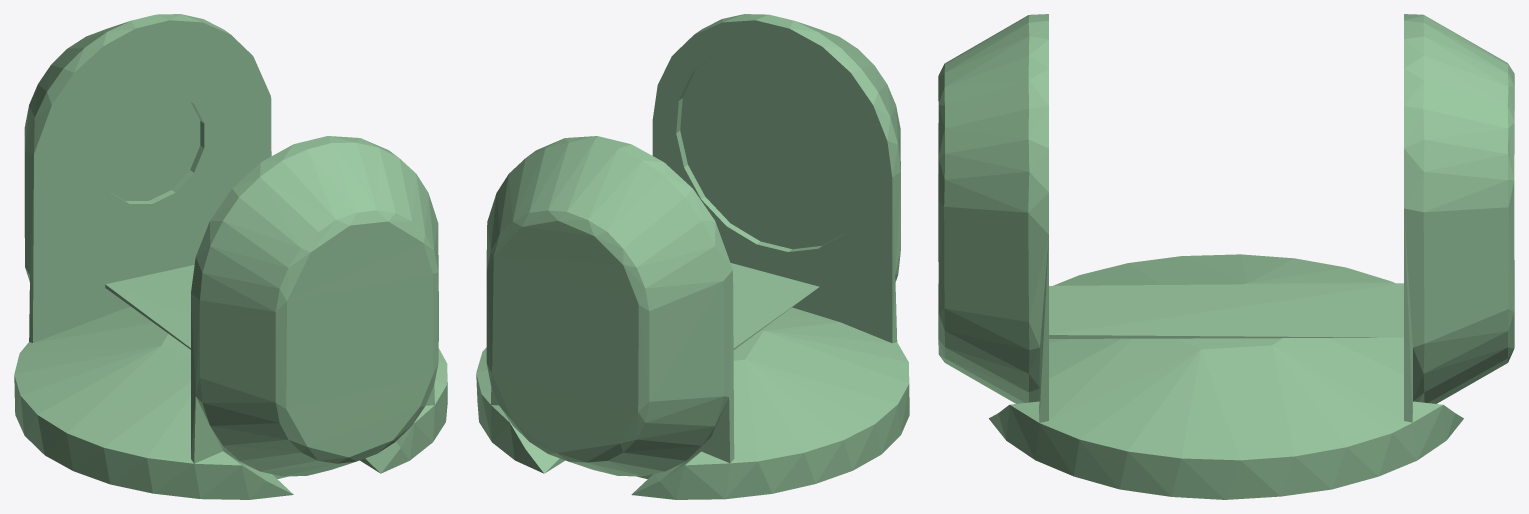
The picture shows the model from 3 angles, left to right: view 1: azimuth 30°, elevation 25°; view 2: azimuth 150°, elevation 25°; view 3: azimuth 270°, elevation 25°; orthographic projection. The views are drawn at different scales.
Visible parts, largest first — view 1: link1; view 2: link1; view 3: link1.
Boxes of the visible parts, x1,y1,x2,y2 form: link1: (14, 14, 447, 499); link1: (476, 14, 909, 499); link1: (938, 14, 1514, 499).
Bounding box in the file's own units: 0.2196 × 0.2597 × 0.1931.
